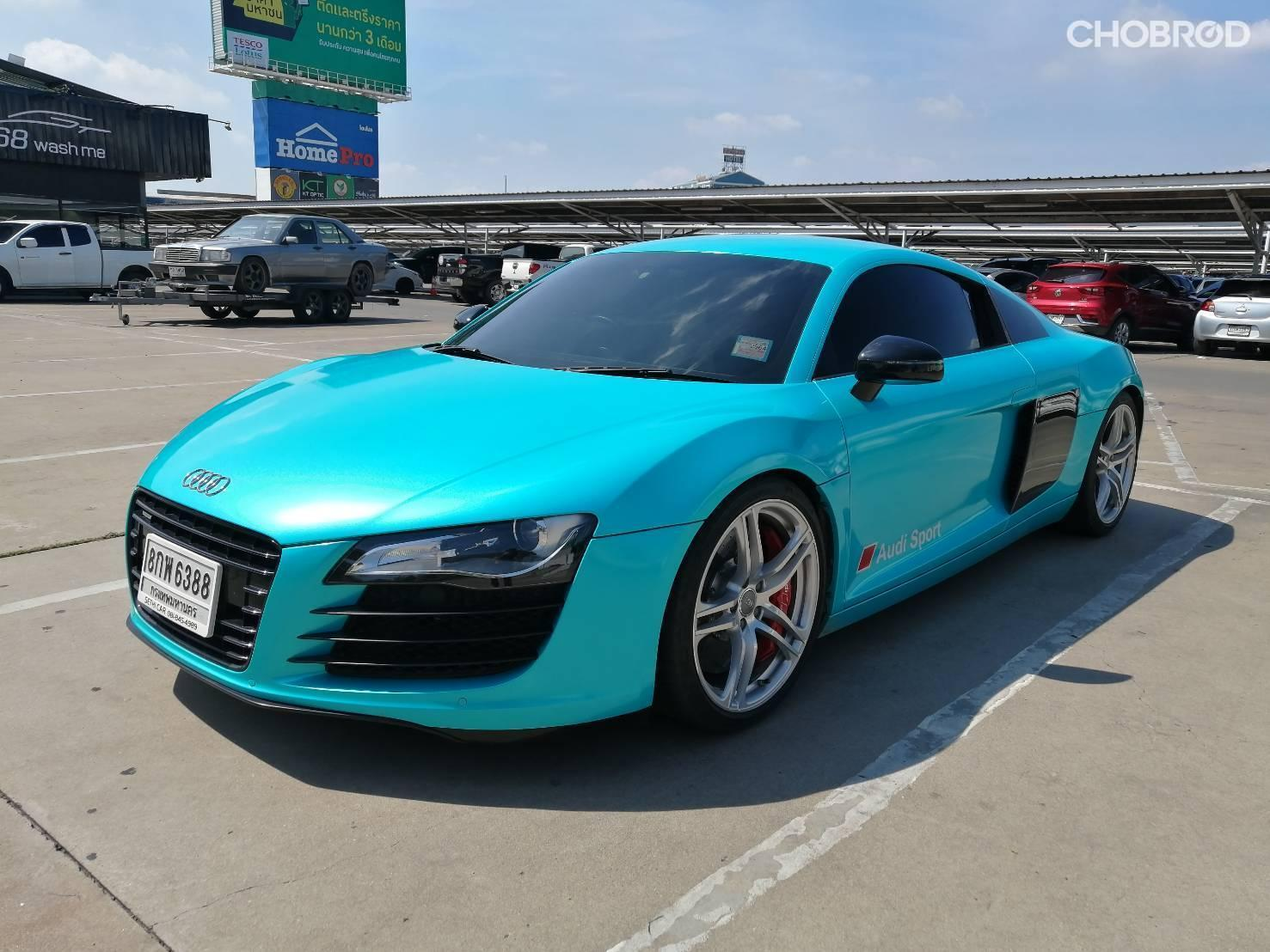license-plate: (132, 526, 225, 638), (1226, 319, 1252, 341), (164, 263, 189, 280)
